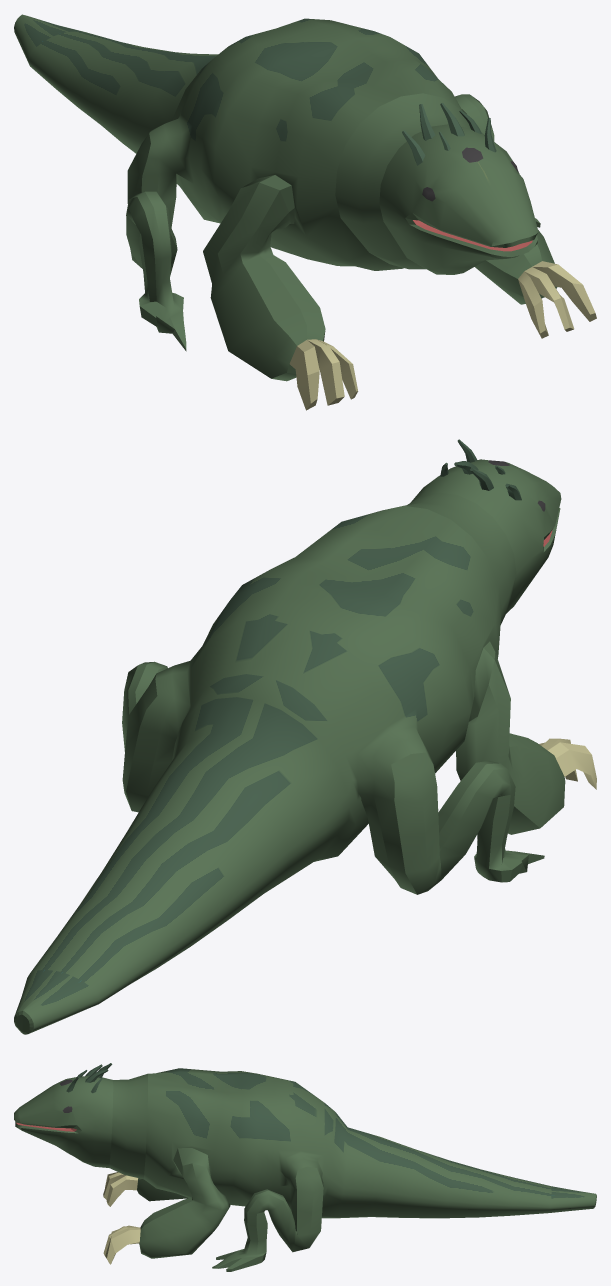
The model's file is island_lizard.fbx.
The picture shows the model from 3 angles, top to bottom: view 1: azimuth 30°, elevation 25°; view 2: azimuth 150°, elevation 25°; view 3: azimuth 270°, elevation 25°; orthographic projection. The views are drawn at different scales.
Visible parts, largest first — view 1: atoll_floatingislandlizard; view 2: atoll_floatingislandlizard; view 3: atoll_floatingislandlizard.
Boxes of the visible parts, x1,y1,x2,y2 form: atoll_floatingislandlizard: (14,14,596,410); atoll_floatingislandlizard: (14,439,596,1034); atoll_floatingislandlizard: (14,1063,596,1271).
Size of the model in its own units: 15.29 by 10.66 by 34.48.
